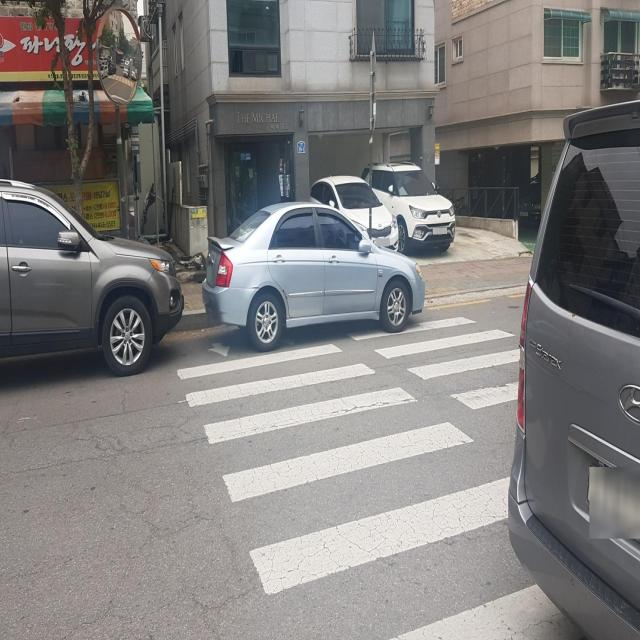횡단보도: (176, 316, 587, 640)
